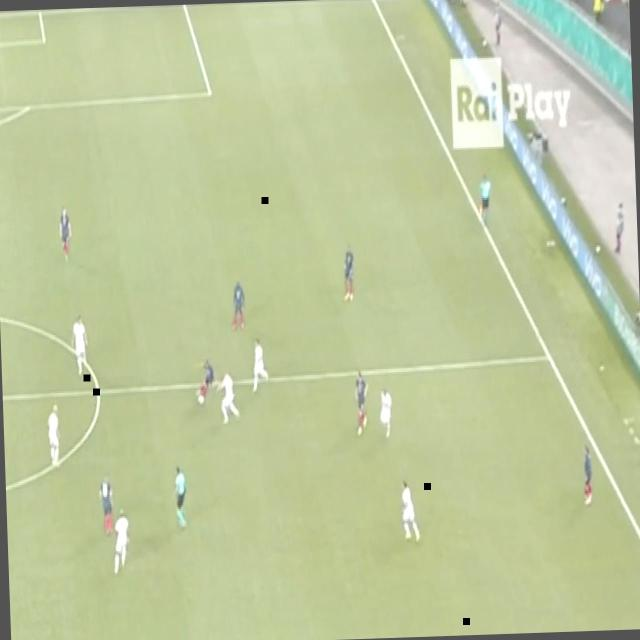ball: (195, 390, 207, 408)
player-white: (108, 506, 134, 578), (212, 366, 242, 426), (398, 477, 423, 548), (68, 314, 93, 378), (44, 398, 65, 474), (248, 333, 272, 399), (351, 364, 372, 437), (192, 354, 218, 409), (169, 463, 190, 531), (338, 237, 358, 307), (96, 471, 117, 537), (227, 275, 248, 336), (375, 382, 395, 444), (579, 438, 595, 514), (476, 168, 494, 235), (56, 200, 74, 266)
